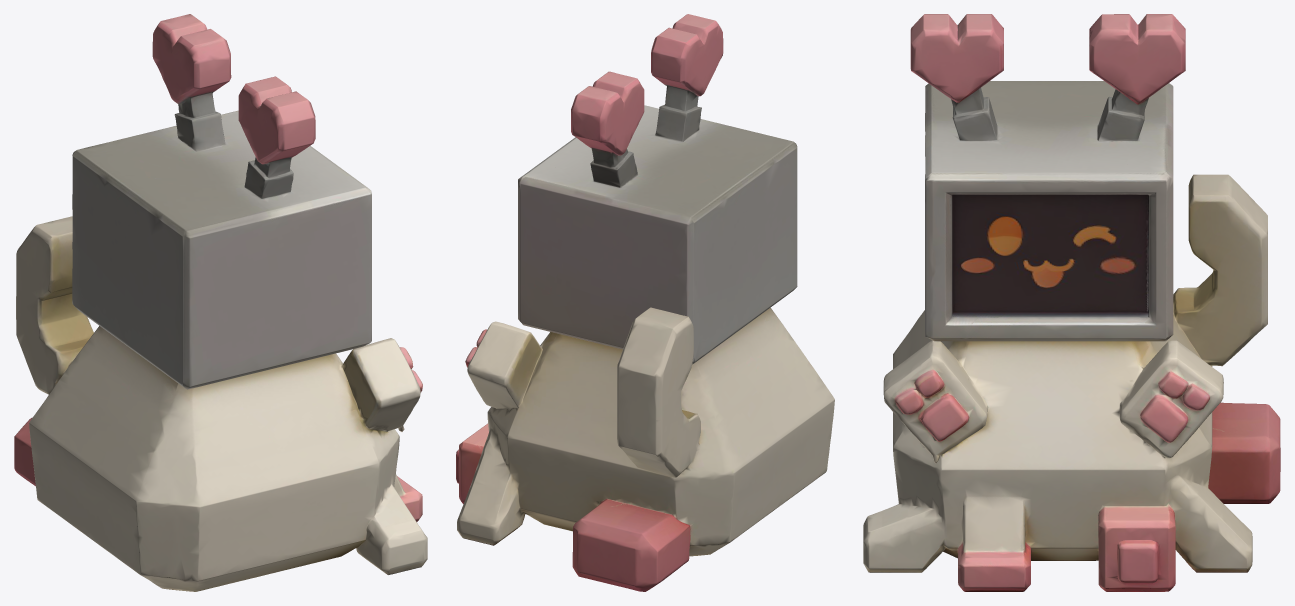
The model's file is 151-block-toy-tripo-v25-standard-15k.glb.
3 views of the same model, side by side, from view 1: azimuth 30°, elevation 25°; view 2: azimuth 150°, elevation 25°; view 3: azimuth 270°, elevation 25° (orthographic). The views are drawn at different scales.
Parts seen in each view (by area): view 1: tripo_node_5bb43bf9-2268-44b3-83d8-97b765b1e854; view 2: tripo_node_5bb43bf9-2268-44b3-83d8-97b765b1e854; view 3: tripo_node_5bb43bf9-2268-44b3-83d8-97b765b1e854.
Boxes of the visible parts, <box> form: tripo_node_5bb43bf9-2268-44b3-83d8-97b765b1e854: <box>14,14,427,591</box>; tripo_node_5bb43bf9-2268-44b3-83d8-97b765b1e854: <box>456,14,834,591</box>; tripo_node_5bb43bf9-2268-44b3-83d8-97b765b1e854: <box>863,14,1280,591</box>.
Bounding box in the file's own units: 0.6744 × 0.9999 × 0.7578.
1 material, 1 textured.
